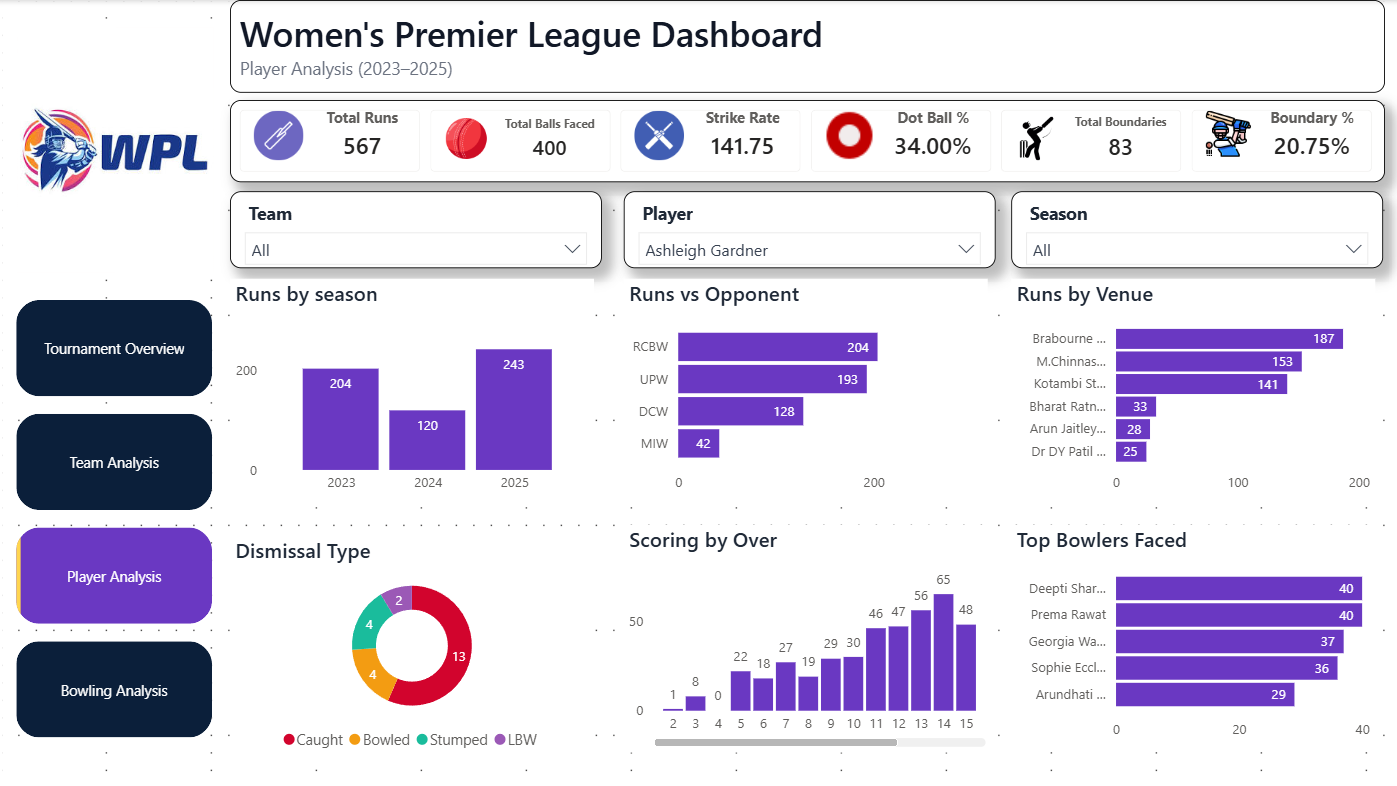

The page's visual inventory and layout, read from the dashboard file:
{"tool":"powerbi","page":{"name":"Player Analysis","canvas":[1280,720],"ordinal":2},"visuals":[{"type":"cardVisual","fields":{"Data":["Tournament KPI's.Total Runs","Tournament KPI's.Total Balls Faced","Tournament KPI's.Strike Rate","Player KPI's.Dot Ball %","Tournament KPI's.Total Boundaries","Player KPI's.Boundary %"]},"box":[210,91,1056,75],"z":0},{"type":"slicer","fields":{"Values":["fact_ball_by_ball.batting_team"]},"box":[210,175,340,70],"z":1000},{"type":"slicer","fields":{"Values":["dim_player_data.Player"]},"box":[570,175,340,70],"z":2000},{"type":"slicer","fields":{"Values":["fact_ball_by_ball.season"]},"box":[925,175,340,70],"z":3000},{"type":"columnChart","title":"Runs by season","fields":{"Category":["fact_ball_by_ball.season"],"Y":["Tournament KPI's.Total Runs"]},"box":[210,255,333,205],"z":4000},{"type":"textbox","box":[210,0,1056,85],"z":5000},{"type":"clusteredBarChart","title":"Runs vs Opponent","fields":{"Y":["Tournament KPI's.Total Runs"],"Category":["fact_ball_by_ball.bowling_team"]},"box":[570,255,333,205],"z":6000},{"type":"barChart","title":"Runs by Venue ","fields":{"Category":["fact_ball_by_ball.venue"],"Y":["Tournament KPI's.Total Runs"]},"box":[925,255,333,205],"z":7000},{"type":"pageNavigator","box":[15,274.4,179,400.6],"z":8000,"group":"g1"},{"type":"donutChart","title":"Dismissal Type","fields":{"Y":["Player KPI's.Dismissal Type"],"Category":["fact_ball_by_ball.wicket_type"]},"box":[210,490,333,205],"z":8000},{"type":"columnChart","title":"Scoring by Over","fields":{"Category":["fact_ball_by_ball.Over Number"],"Y":["Tournament KPI's.Total Runs"]},"box":[570,480,336,208],"z":9000},{"type":"image","box":[16,25,179,224.3],"z":9001,"group":"g1"},{"type":"barChart","title":"Top Bowlers Faced","fields":{"Y":["Tournament KPI's.Total Runs"],"Category":["fact_ball_by_ball.bowler_full"]},"box":[925,480,333,205],"z":10000},{"type":"group","id":"g1","title":"Group 1","box":[15,25,180,650],"z":10001}]}

Visuals, with their boxes in screenshot pixels (x1, y1, x2, y2), scaled from the page's 1280x720 canvas onto the 1397x786 screenshot:
cardVisual - Tournament KPI's.Total Runs x Tournament KPI's.Total Balls Faced: region(229, 99, 1382, 181)
slicer - fact_ball_by_ball.batting_team: region(229, 191, 600, 267)
slicer - dim_player_data.Player: region(622, 191, 993, 267)
slicer - fact_ball_by_ball.season: region(1010, 191, 1381, 267)
"Runs by season" columnChart: region(229, 278, 593, 502)
textbox: region(229, 0, 1382, 93)
"Runs vs Opponent" clusteredBarChart: region(622, 278, 986, 502)
"Runs by Venue " barChart: region(1010, 278, 1373, 502)
pageNavigator: region(16, 300, 212, 737)
"Dismissal Type" donutChart: region(229, 535, 593, 759)
"Scoring by Over" columnChart: region(622, 524, 989, 751)
image: region(17, 27, 213, 272)
"Top Bowlers Faced" barChart: region(1010, 524, 1373, 748)
"Group 1" group: region(16, 27, 213, 737)
